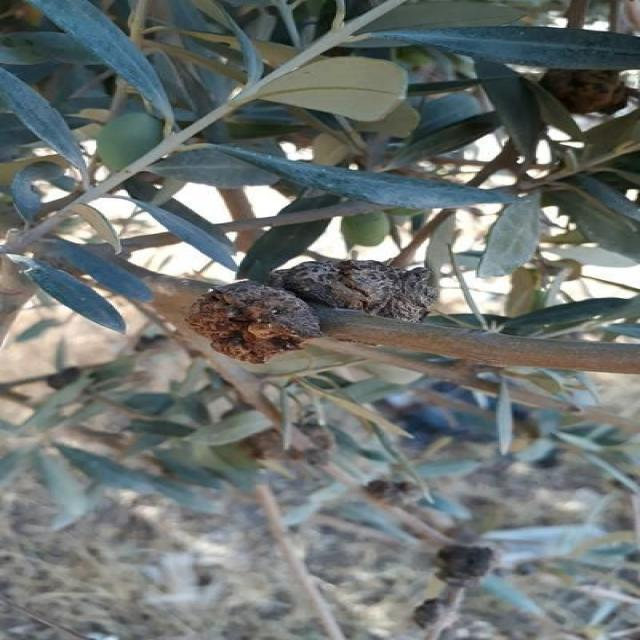Tuberculosis: (187, 280, 320, 363), (269, 260, 435, 320), (540, 70, 638, 114)
